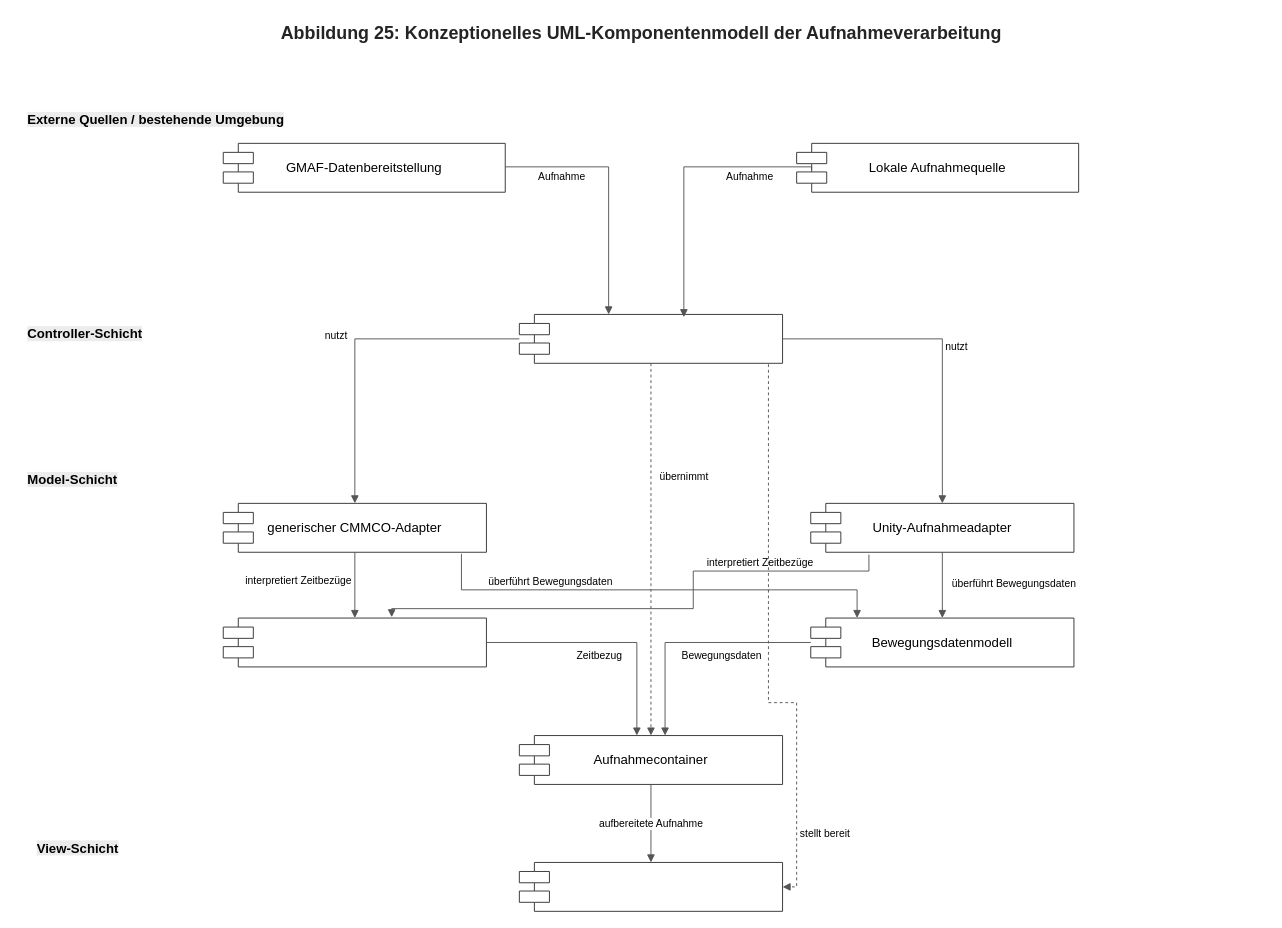
This 1282x928 diagram has some shape labels left out. Each missing label, with the centre of its shape:
Analyseoberfläche: the point at 650,886
Aufnahmeverwaltung: the point at 650,338
Zeitbasis-Interpretation: the point at 354,642
